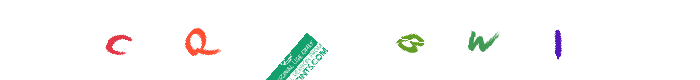5: (297, 0, 377, 80)
B: (311, 0, 391, 80)
C: (128, 0, 208, 80)
J: (518, 0, 598, 80)
Q: (256, 0, 336, 80)
W: (405, 0, 485, 80)
